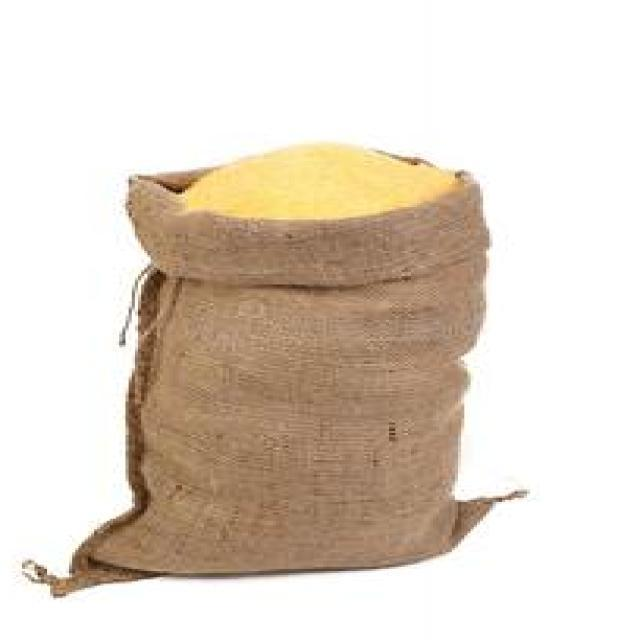gunny_bag: (46, 233, 515, 610)
